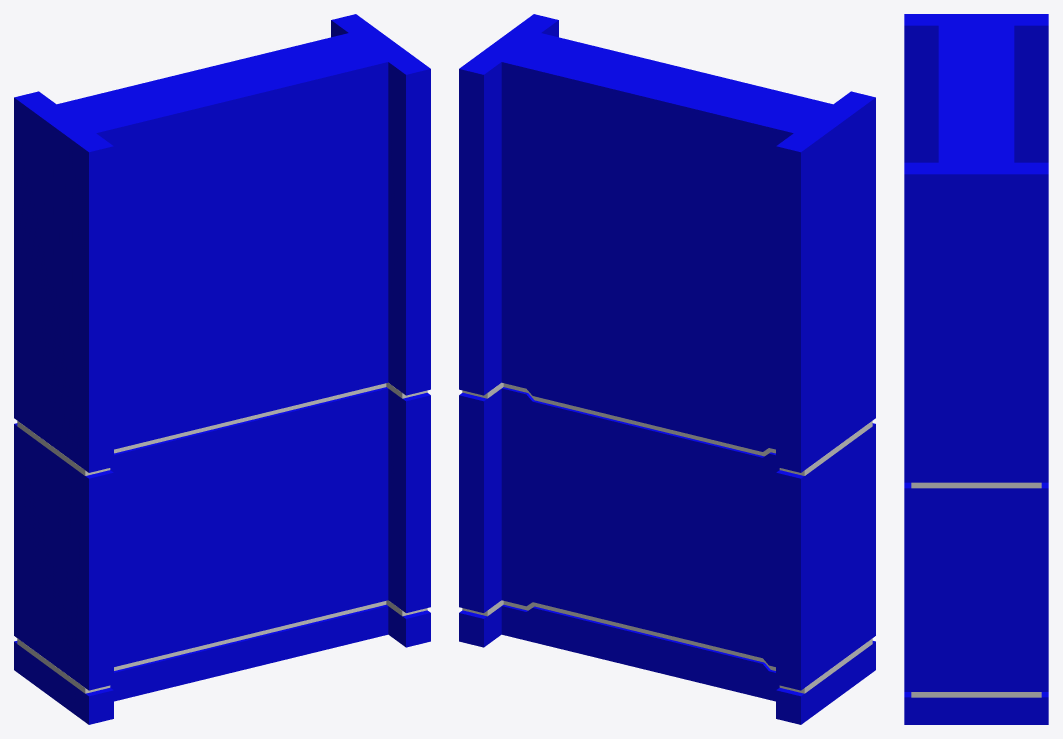
File: WallsV2_1x1Merged.fbx
3 views of the same model, side by side, from view 1: azimuth 30°, elevation 25°; view 2: azimuth 150°, elevation 25°; view 3: azimuth 270°, elevation 25° (orthographic). The views are drawn at different scales.
Visible parts, largest first — view 1: WallV2_1x1_Combined; view 2: WallV2_1x1_Combined; view 3: WallV2_1x1_Combined.
Boxes of the visible parts, x1,y1,x2,y2 form: WallV2_1x1_Combined: (14, 14, 430, 724); WallV2_1x1_Combined: (459, 14, 875, 724); WallV2_1x1_Combined: (904, 14, 1048, 724).
Bounding box in the file's own units: 500 × 800 × 190.
